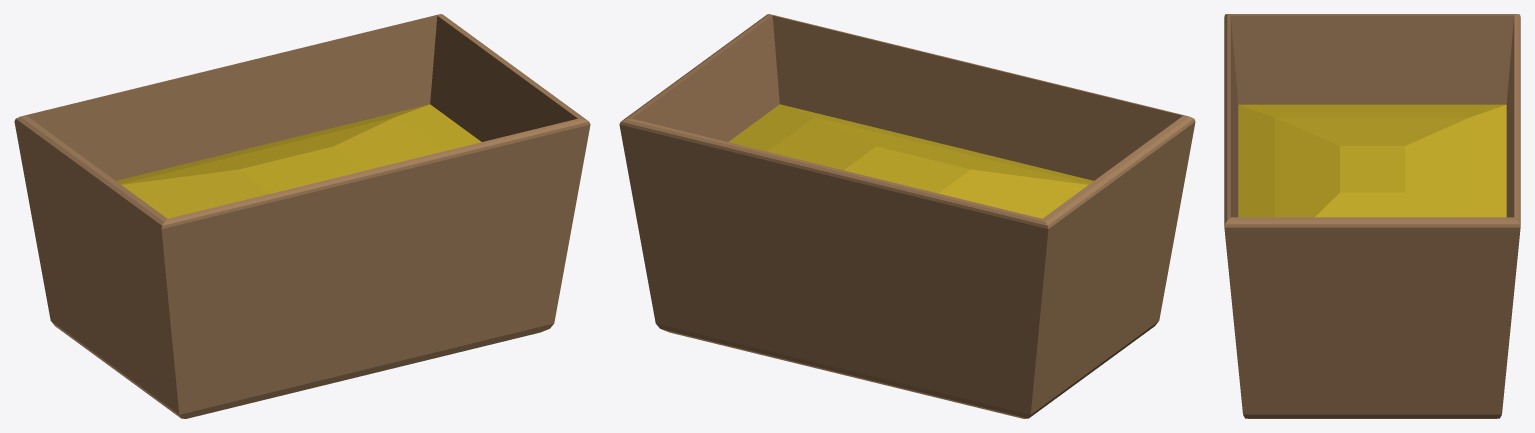
Rendered from Food Bowl Var 3 Filled.fbx.
3 views of the same model, side by side, from view 1: azimuth 30°, elevation 25°; view 2: azimuth 150°, elevation 25°; view 3: azimuth 270°, elevation 25° (orthographic).
Parts seen in each view (by area): view 1: Food Bowl Var 3 filled; view 2: Food Bowl Var 3 filled; view 3: Food Bowl Var 3 filled.
Part boxes in pixels (x1,y1,x2,y2): Food Bowl Var 3 filled: (14,14,590,418); Food Bowl Var 3 filled: (619,14,1195,418); Food Bowl Var 3 filled: (1224,14,1520,418).
Size of the model in its own units: 27.38 by 13.15 by 16.26.
